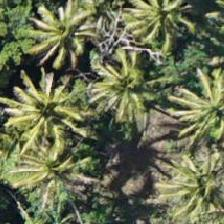coconut_tree: (14, 63, 104, 153), (19, 0, 109, 86), (96, 0, 186, 77), (156, 140, 223, 223), (167, 50, 223, 140), (3, 175, 93, 223)
